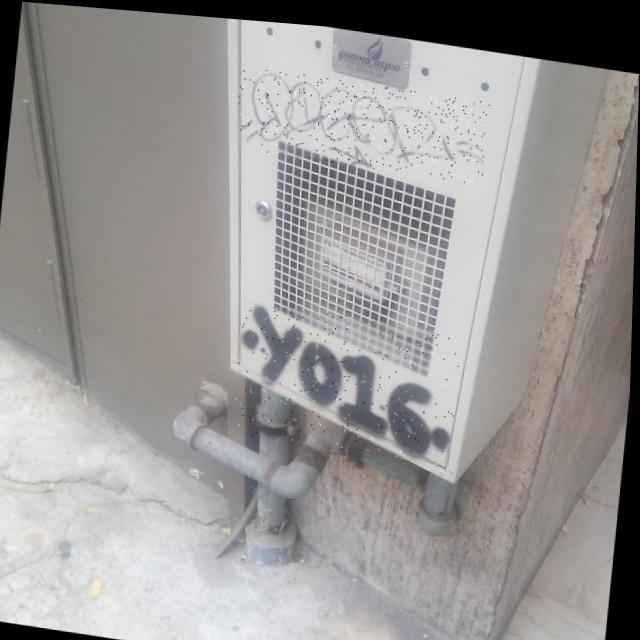-: (232, 296, 464, 458), (234, 60, 490, 176)
